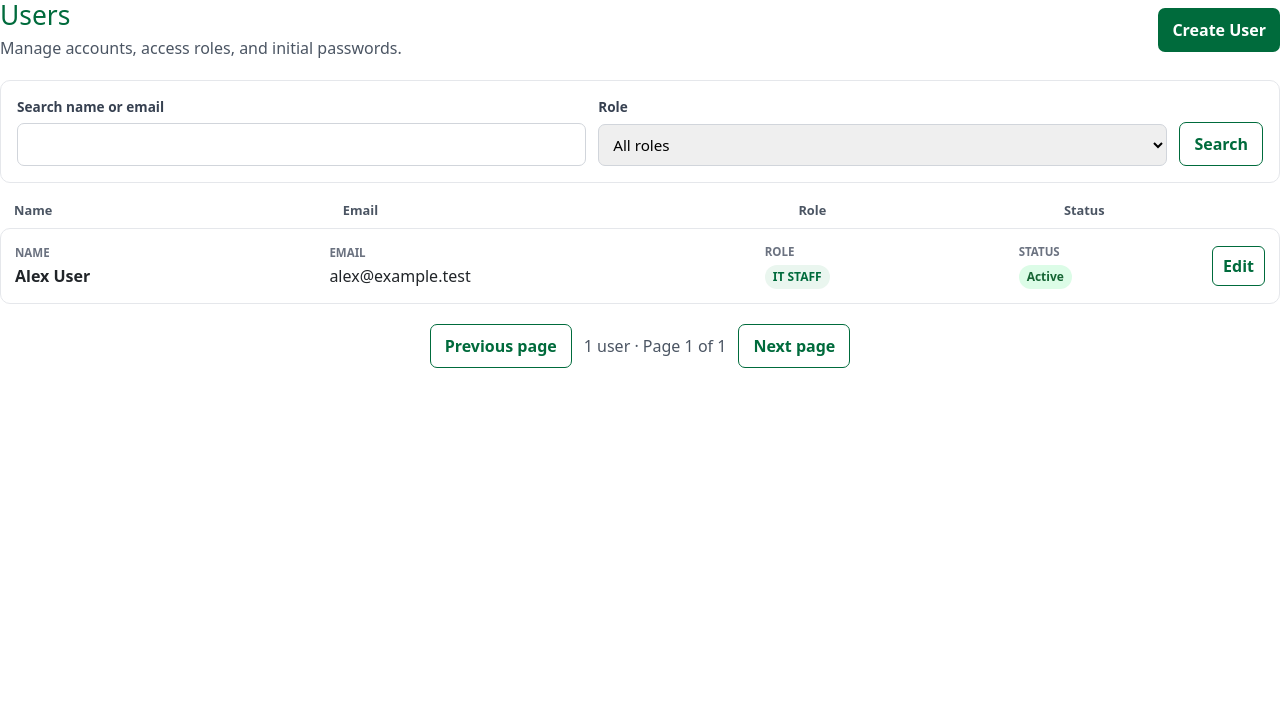
Test case: UserManagement › creates a user with an initial password and confirmation
Expected: the text "Alex User" is shown, left=15, top=265, right=90, bottom=287
Click the button "Create User": click(1219, 30) left=1158, top=8, right=1279, bottom=52
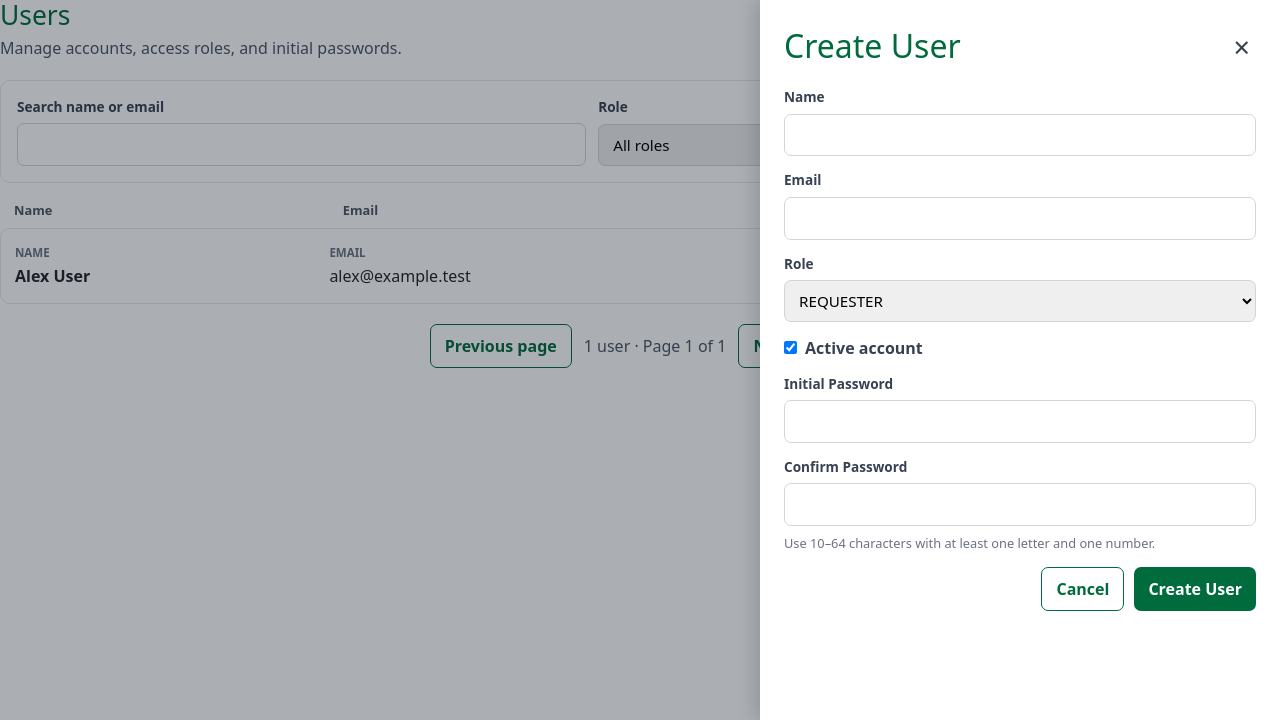
In the field labelled "Name": (1020, 135) left=784, top=114, right=1256, bottom=156, type "Created User"
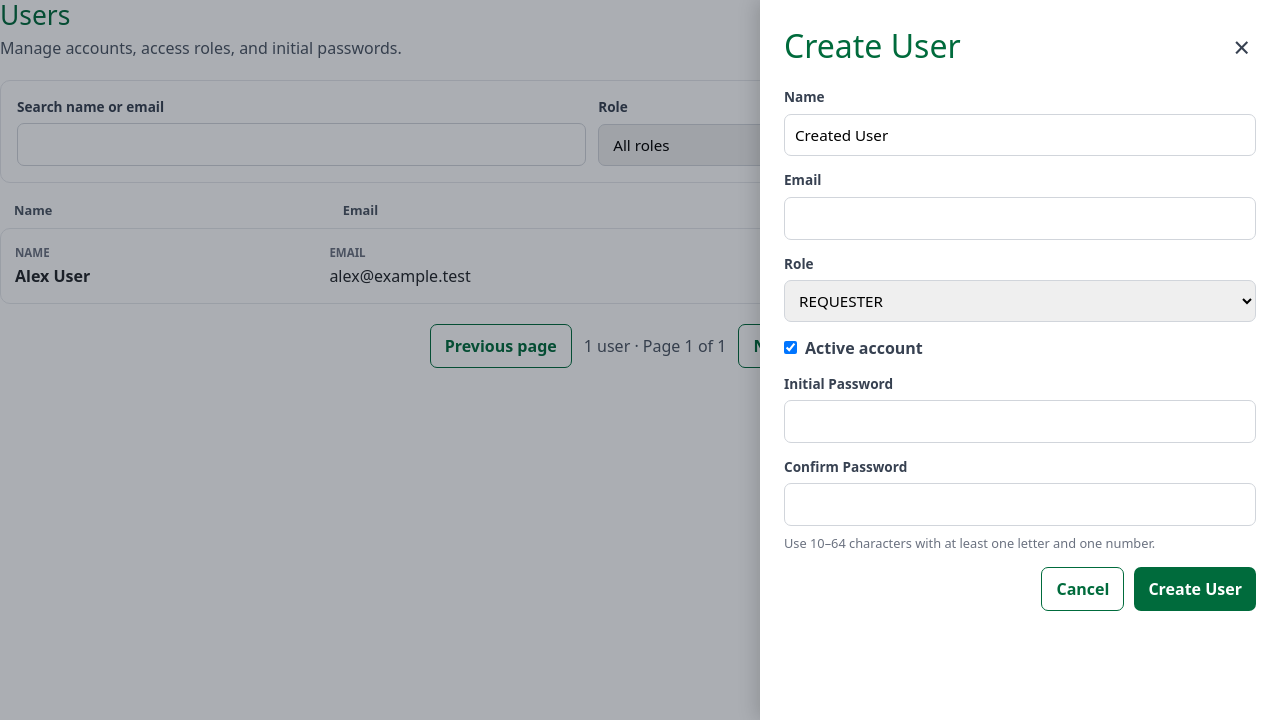
In the field labelled "Email": (1020, 218) left=784, top=197, right=1256, bottom=240, type "created@example.test"
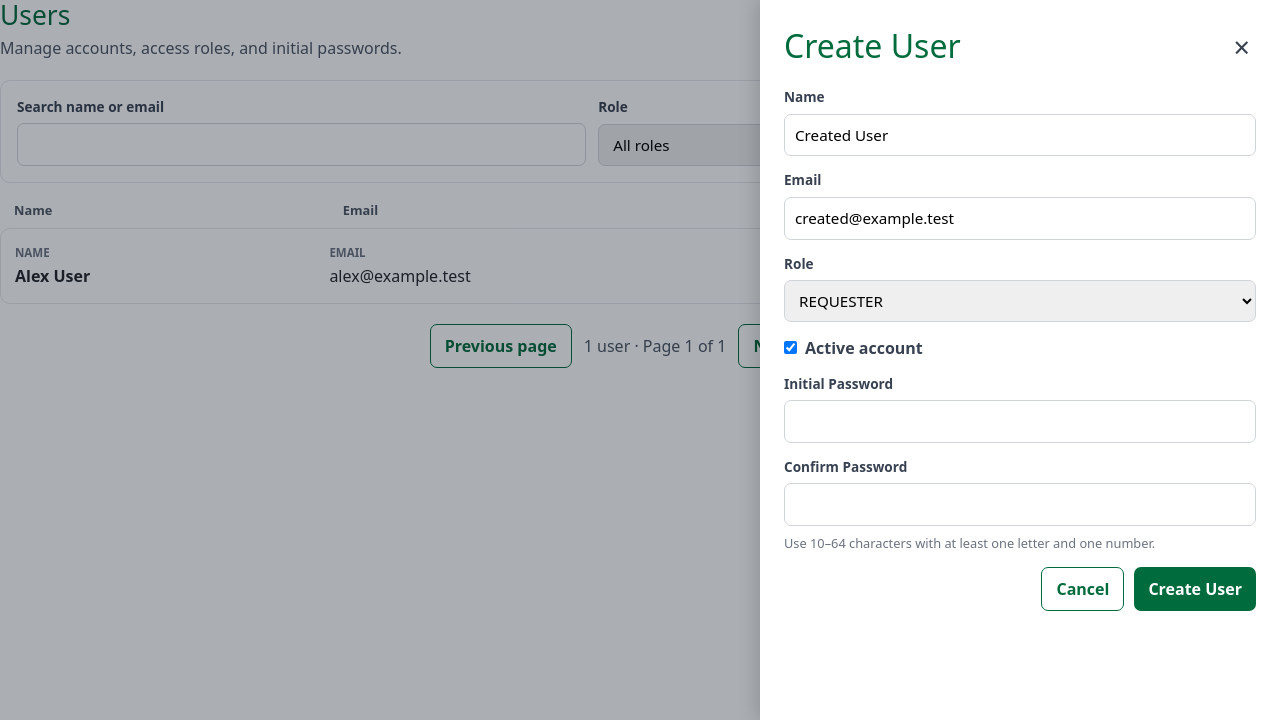
In the password field labelled "Initial Password": (1020, 422) left=784, top=400, right=1256, bottom=443, type "CreatedPassword123!"
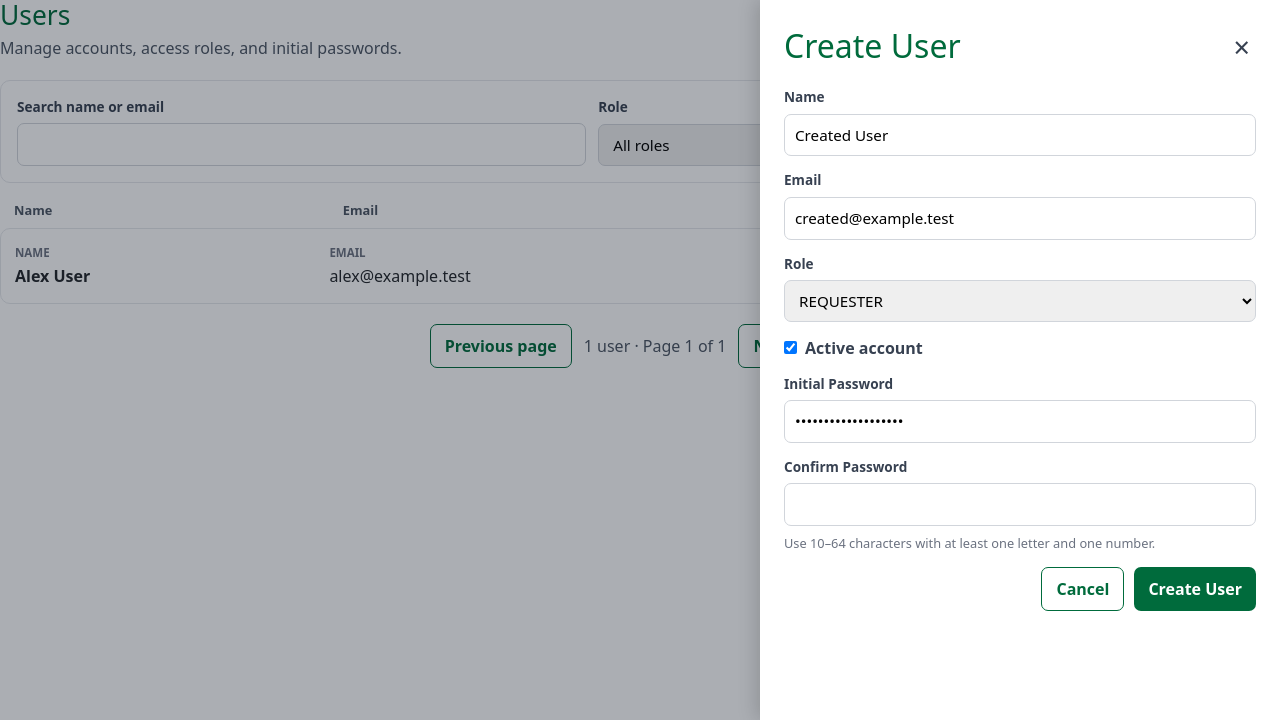
In the password field labelled "Confirm Password": (1020, 505) left=784, top=484, right=1256, bottom=526, type "CreatedPassword123!"
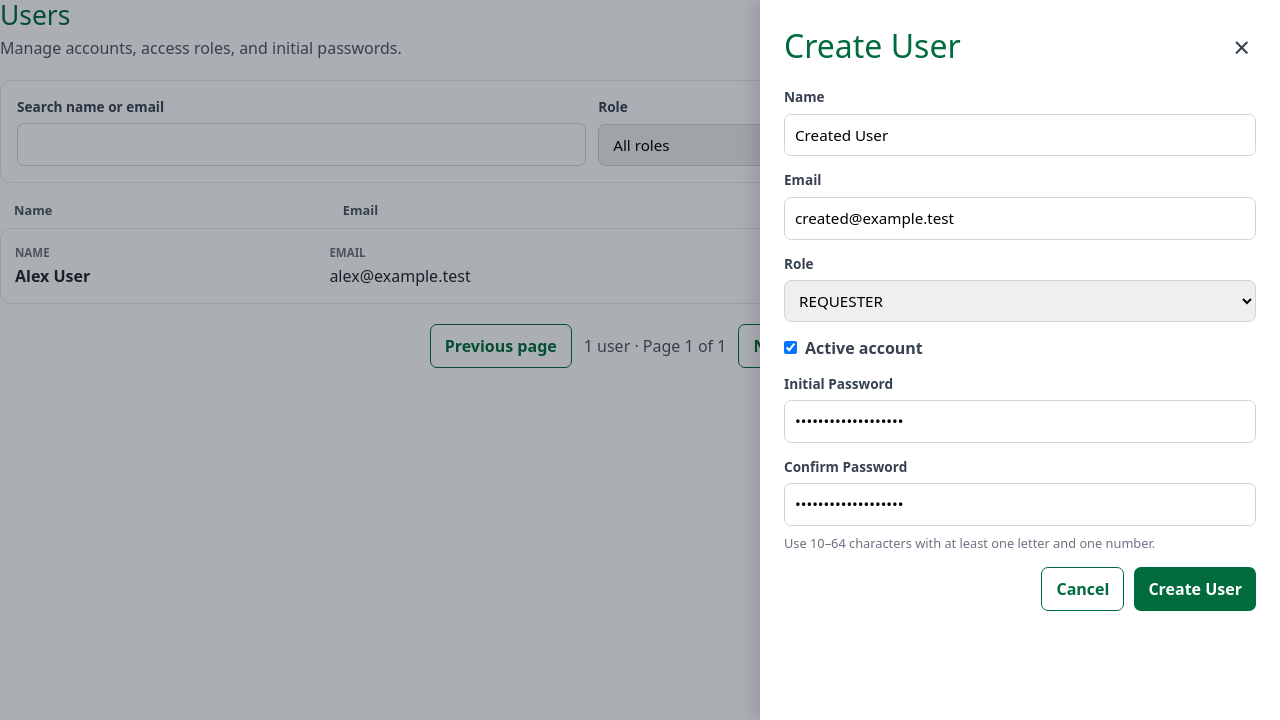
Click the button "Create User": click(1195, 590) left=1134, top=568, right=1256, bottom=612
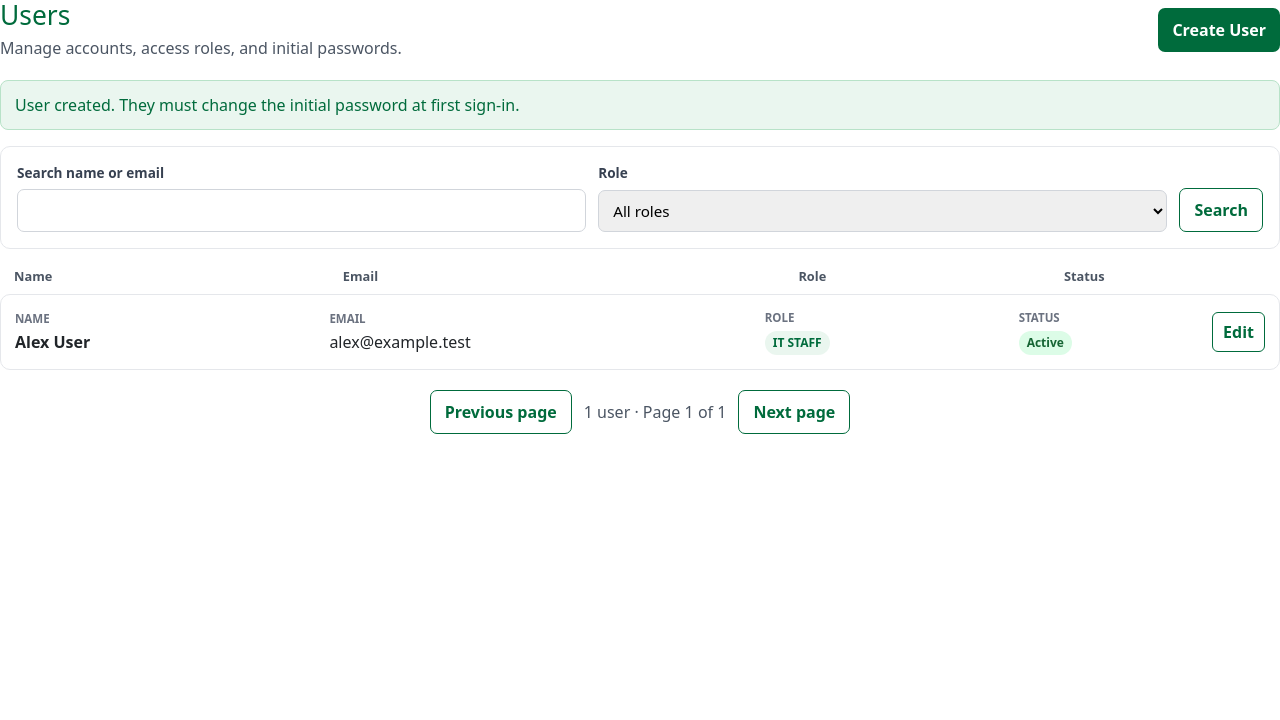
Result: the text "User created" is shown at left=15, top=94, right=520, bottom=116
